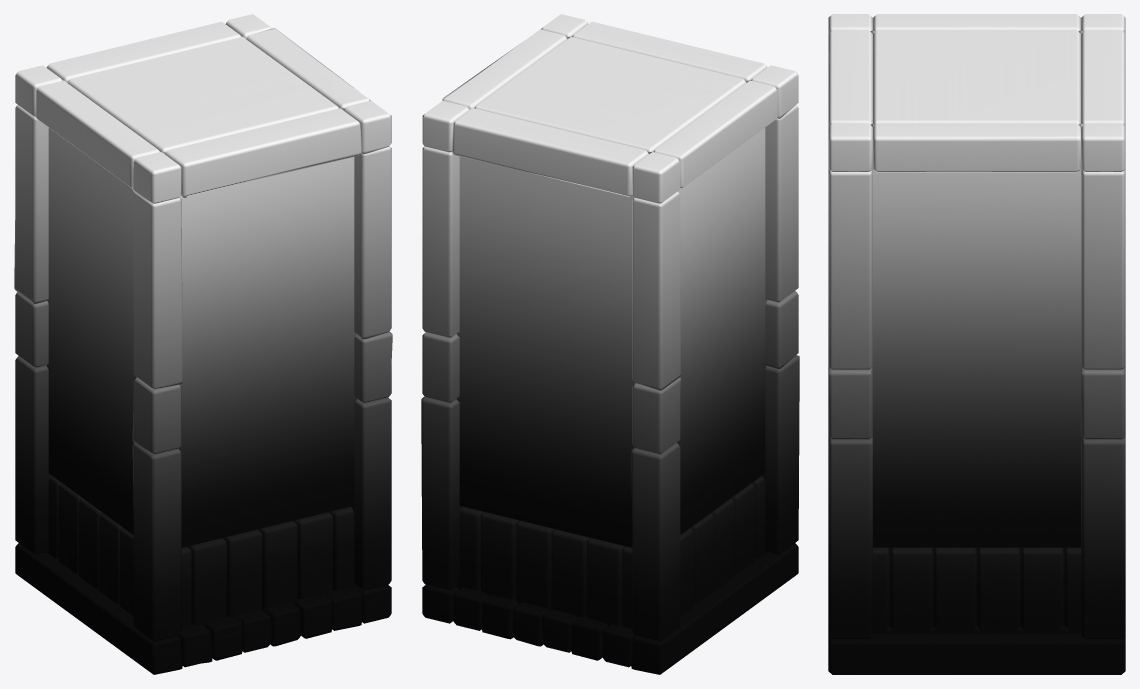
Rendered from SM_Wood_Body_07.fbx.
The picture shows the model from 3 angles, left to right: view 1: azimuth 30°, elevation 25°; view 2: azimuth 150°, elevation 25°; view 3: azimuth 270°, elevation 25°; orthographic projection. The views are drawn at different scales.
Parts seen in each view (by area): view 1: SM_Wood_Body_07; view 2: SM_Wood_Body_07; view 3: SM_Wood_Body_07.
Boxes of the visible parts, x1=… form: SM_Wood_Body_07: x1=14, y1=14, x2=392, y2=674; SM_Wood_Body_07: x1=421, y1=14, x2=799, y2=674; SM_Wood_Body_07: x1=828, y1=14, x2=1125, y2=674.
Size of the model in its own units: 1 by 2 by 1.
